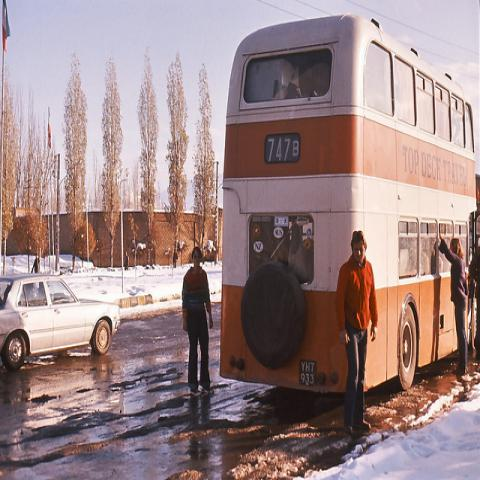bus: (218, 11, 480, 396)
car: (0, 273, 120, 372)
